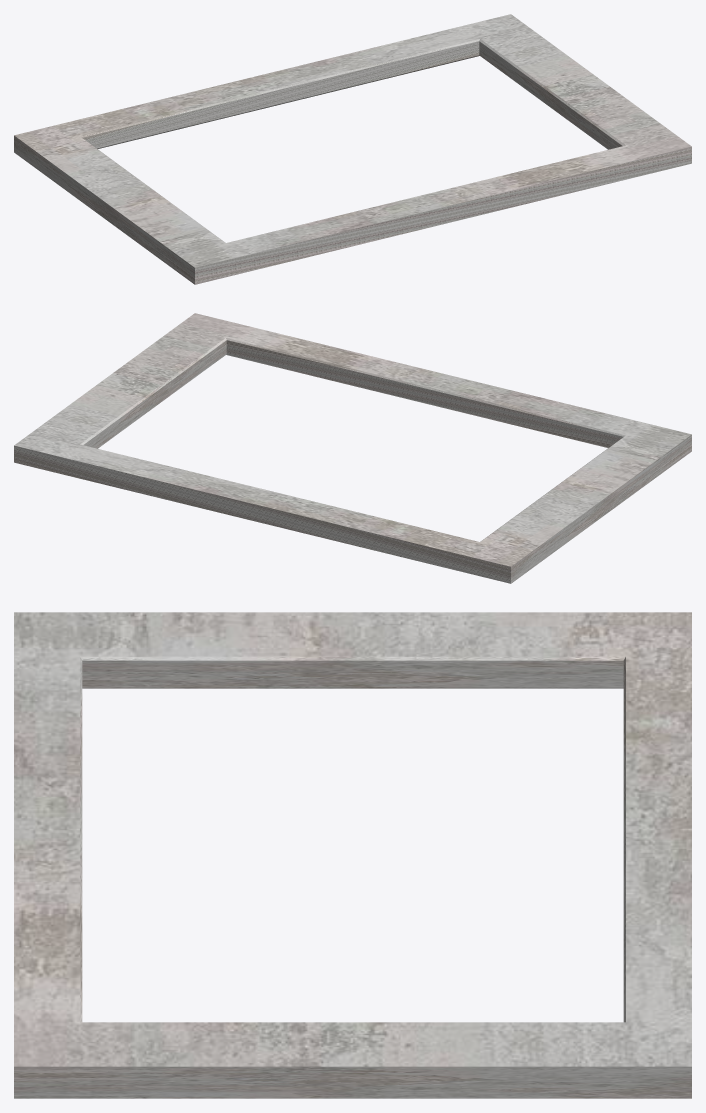
3 renders of one model, top to bottom at view 1: azimuth 30°, elevation 25°; view 2: azimuth 150°, elevation 25°; view 3: azimuth 270°, elevation 25°, orthographic. The views are drawn at different scales.
Bounding box in the file's own units: 3.93 × 0.1289 × 2.48.
Materials: 1 (1 with a texture image).
